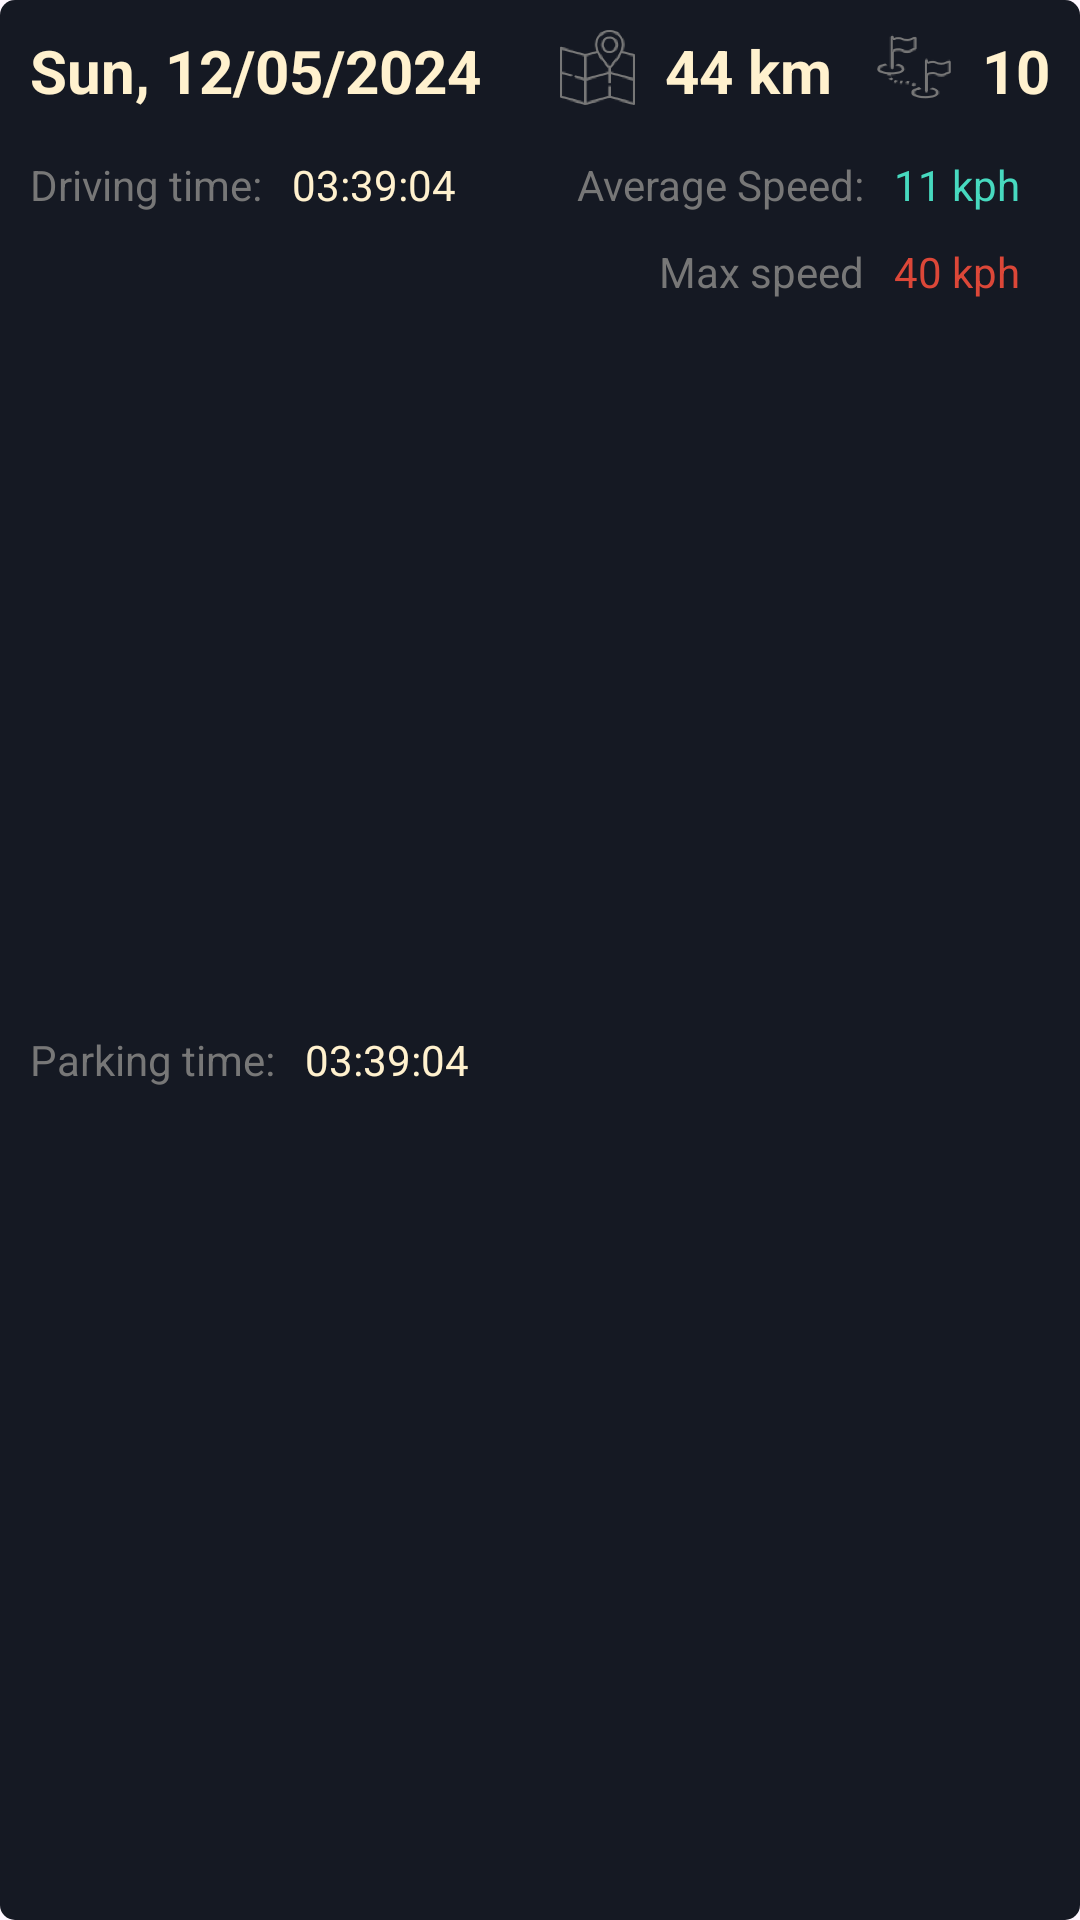

Named icons in this screenshot (1080px×1920px) and their centers, (x=x, y=y):
map location: (x=597, y=67)
